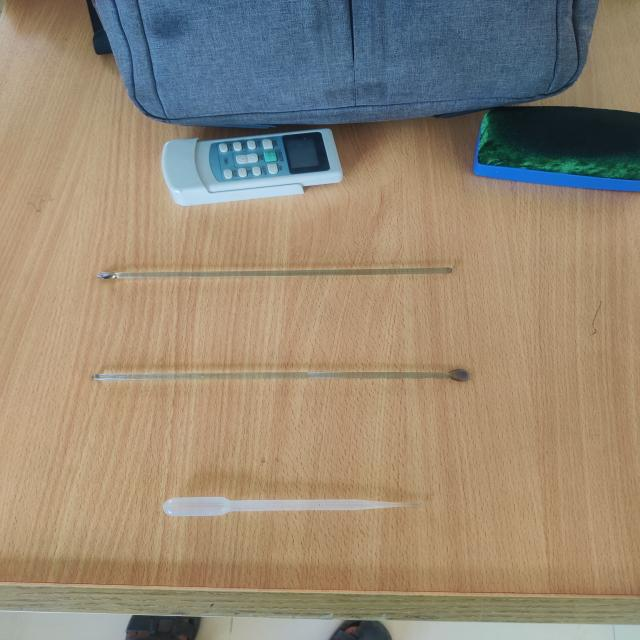Glass_Rod: (90, 335, 488, 417), (88, 232, 485, 314)
Pipette: (137, 460, 427, 552)
